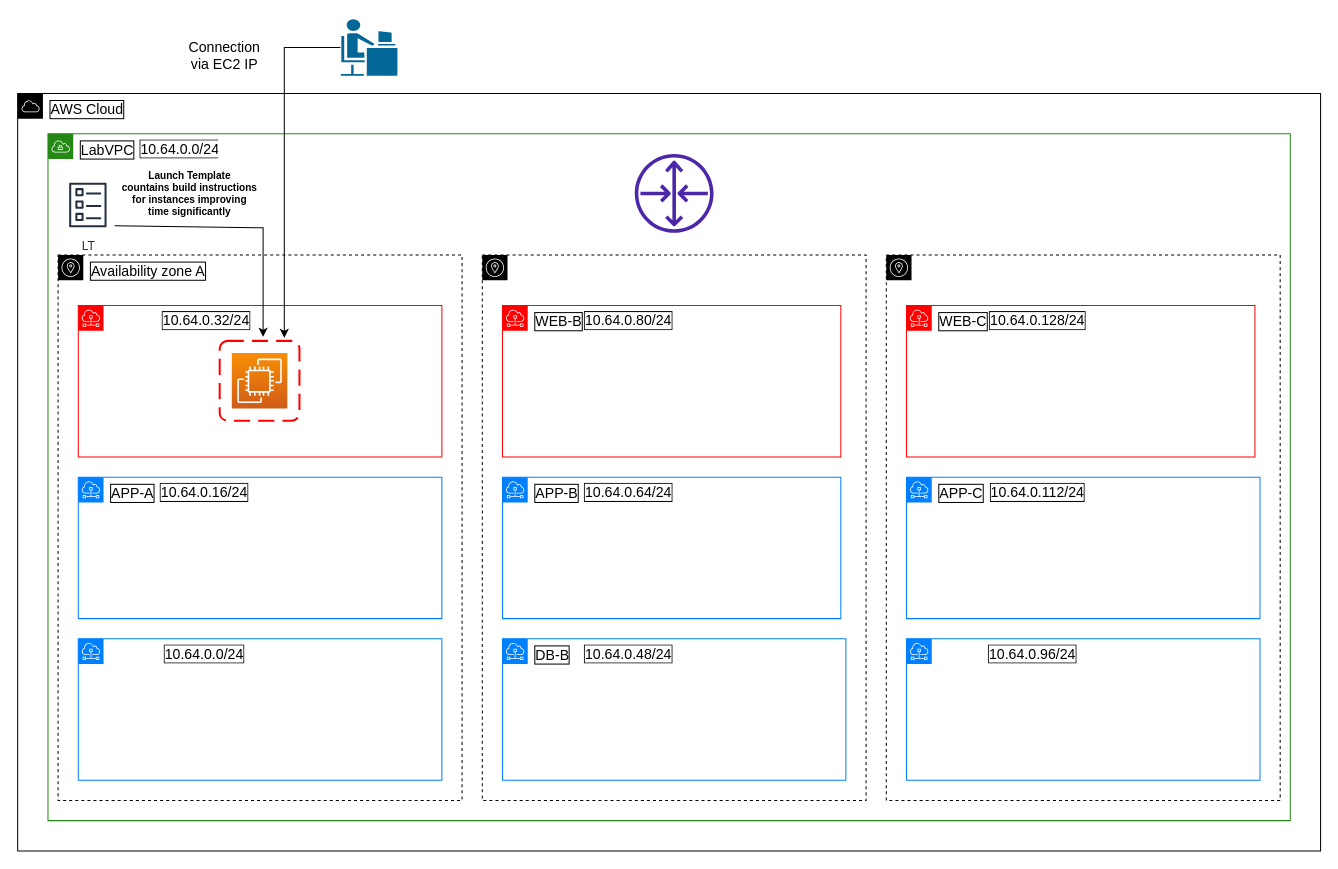
Some shapes in this 1338 by 869 pixel diagram are drawn without their labels. The shapes that lost their labels are listed below. From the top down, each one's box as (x1, y1, x2, y2) in pixels, then its label:
(77, 305, 442, 457): WEB-A
(481, 254, 866, 800): Availability zone B
(885, 254, 1280, 800): Availability zone C
(77, 638, 442, 780): DB-A
(905, 638, 1260, 780): DB-C
